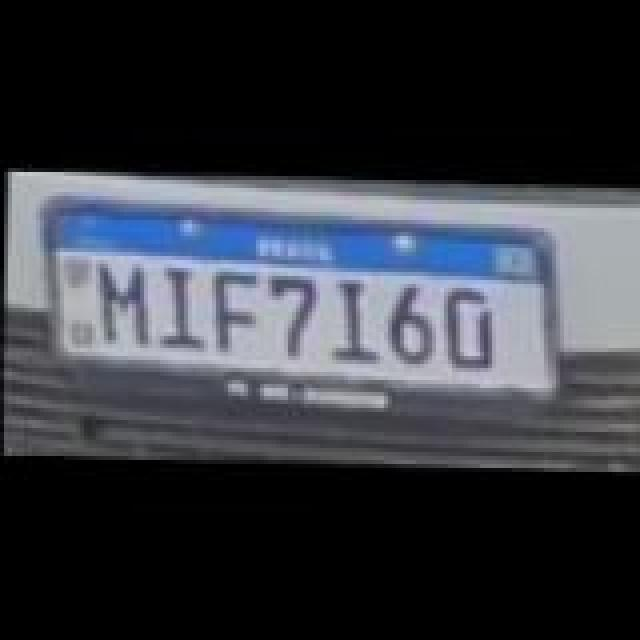6: (382, 282, 438, 362)
7: (268, 274, 328, 354)
D: (440, 284, 500, 364)
F: (204, 266, 264, 346)
I: (326, 278, 382, 362), (150, 258, 206, 342)
M: (92, 260, 152, 344)
